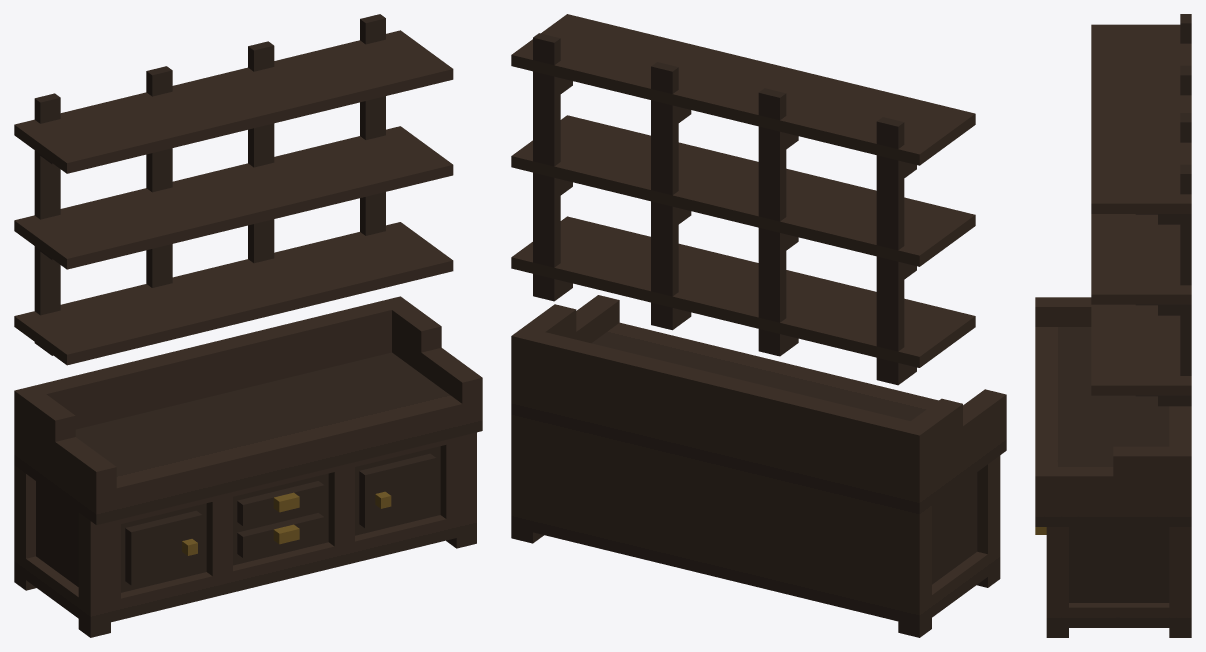
File: Items_stand.fbx
3 views of the same model, side by side, from view 1: azimuth 30°, elevation 25°; view 2: azimuth 150°, elevation 25°; view 3: azimuth 270°, elevation 25° (orthographic). The views are drawn at different scales.
Parts seen in each view (by area): view 1: Items_Stand.Merged; view 2: Items_Stand.Merged; view 3: Items_Stand.Merged.
Part boxes in pixels (box(x1,y1,x2,y2)): Items_Stand.Merged: box(14, 14, 482, 637); Items_Stand.Merged: box(511, 14, 1006, 637); Items_Stand.Merged: box(1035, 14, 1191, 637).
Size of the model in its own units: 2.55 by 3.02 by 0.938.
